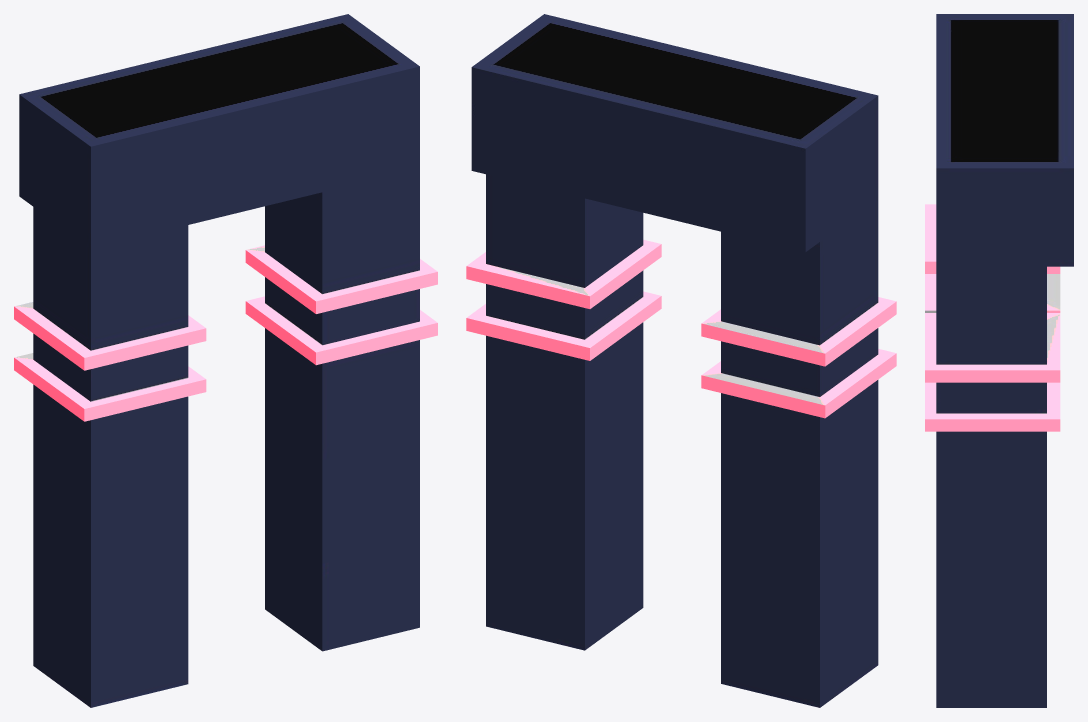
Rendered from pants_led_red.glb.
3 renders of one model, left to right at view 1: azimuth 30°, elevation 25°; view 2: azimuth 150°, elevation 25°; view 3: azimuth 270°, elevation 25°, orthographic. The views are drawn at different scales.
Visible parts, largest first — view 1: led_Pants.001; view 2: led_Pants.001; view 3: led_Pants.001.
Boxes of the visible parts, x1=… form: led_Pants.001: x1=14, y1=14, x2=437, y2=707; led_Pants.001: x1=466, y1=14, x2=896, y2=707; led_Pants.001: x1=925, y1=14, x2=1073, y2=707.
Bounding box in the file's own units: 2.9 × 4.4 × 1.1.
2 materials, 1 textured.
